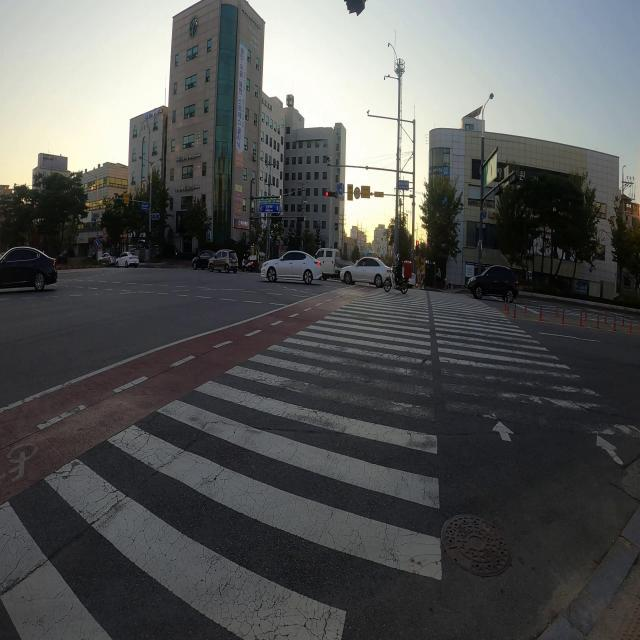crosswalk: (0, 283, 640, 640)
